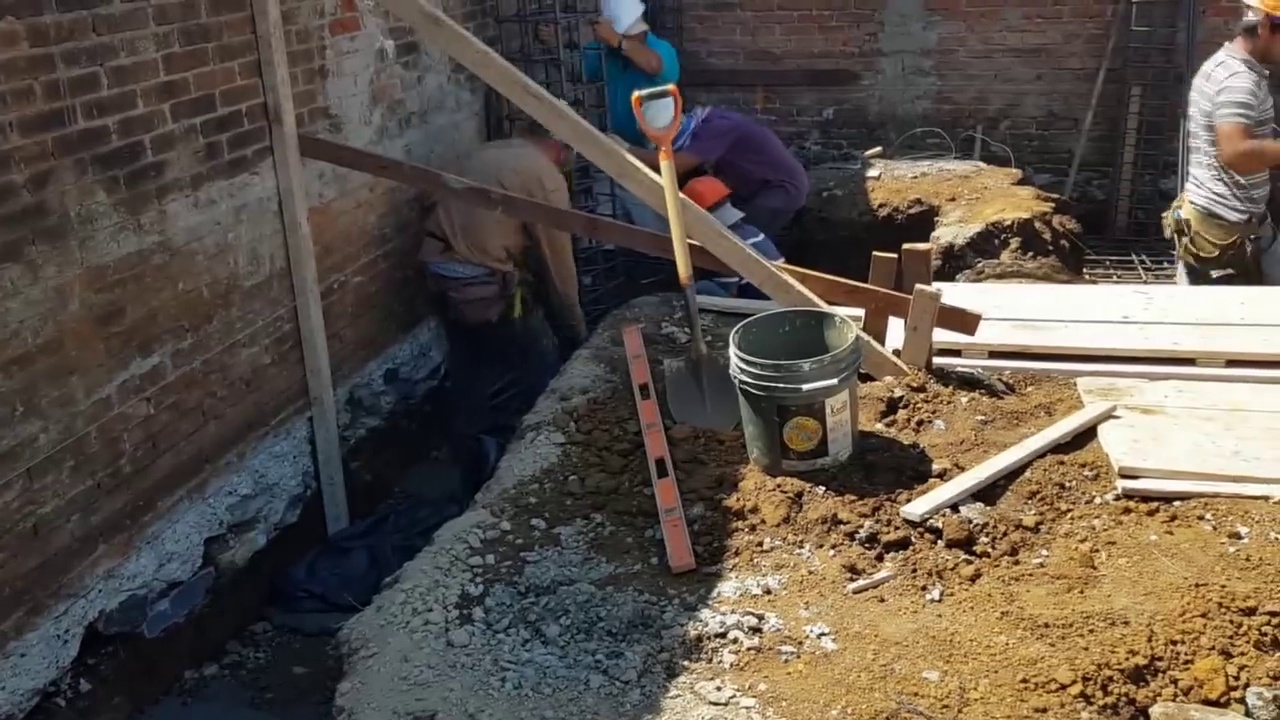helmet: (685, 173, 729, 212), (596, 4, 647, 37)
helmet-off: (1231, 4, 1277, 52)
helmet-on: (683, 173, 747, 242), (592, 3, 660, 60)
person: (420, 119, 580, 434), (1179, 0, 1279, 289), (637, 95, 808, 235), (587, 0, 691, 183), (681, 172, 786, 309)
